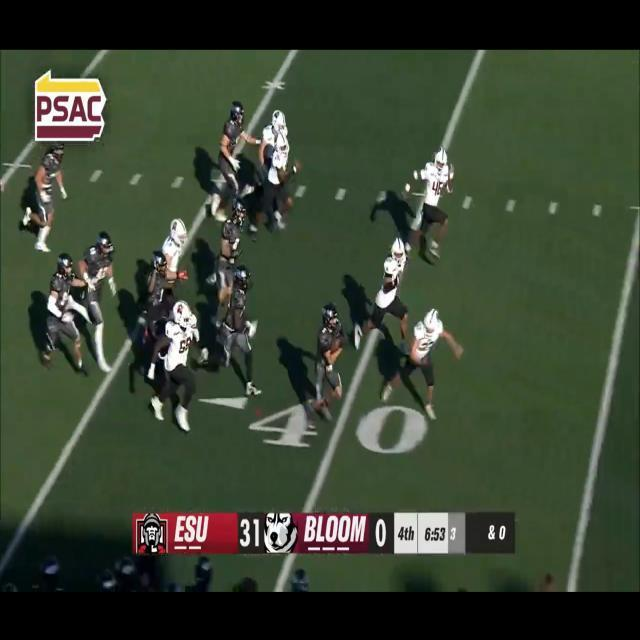football: (329, 330, 342, 360)
